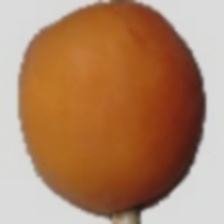apricot: (28, 5, 200, 186)
